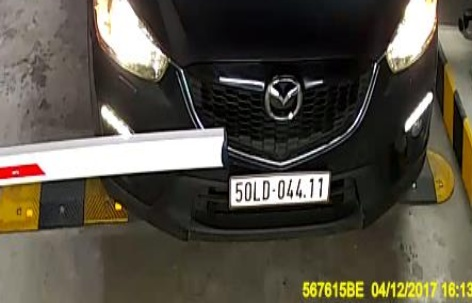plate: (223, 172, 335, 215)
